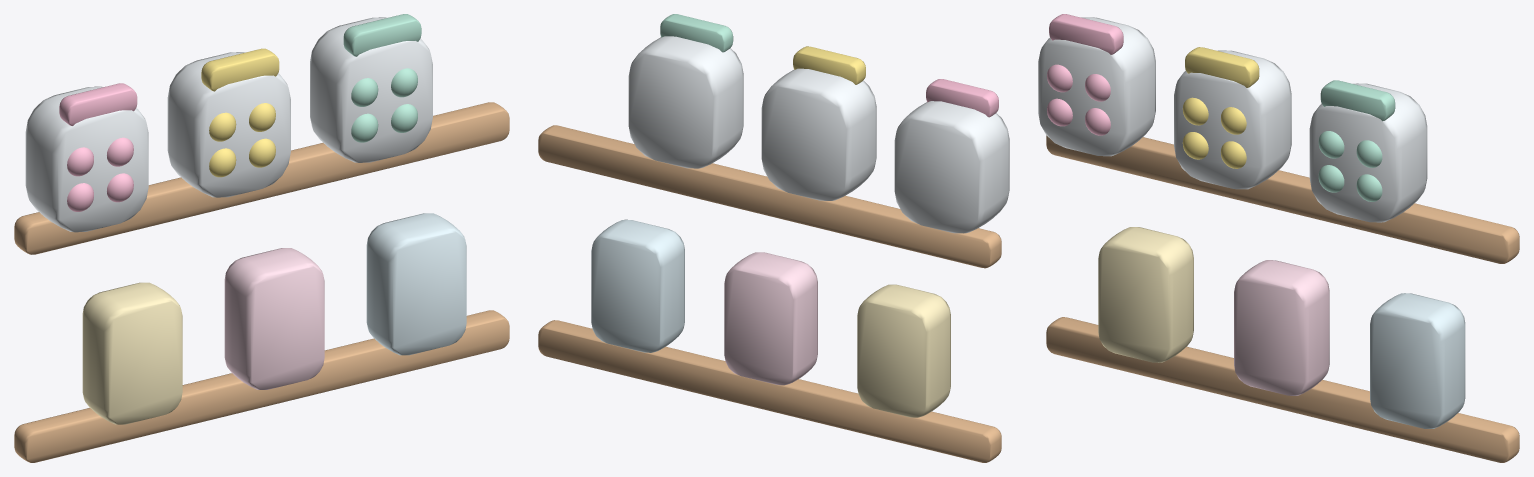
The model's file is decor_3_classic.glb.
3 renders of one model, left to right at view 1: azimuth 30°, elevation 25°; view 2: azimuth 150°, elevation 25°; view 3: azimuth 330°, elevation 25°, orthographic. The views are drawn at different scales.
Visible parts, largest first — view 1: decor_3_classic; view 2: decor_3_classic; view 3: decor_3_classic.
Boxes of the visible parts, <box> form: decor_3_classic: <box>14,14,509,462</box>; decor_3_classic: <box>538,14,1009,462</box>; decor_3_classic: <box>1038,14,1519,462</box>.
Size of the model in its own units: 17.08 by 12.47 by 2.26.
